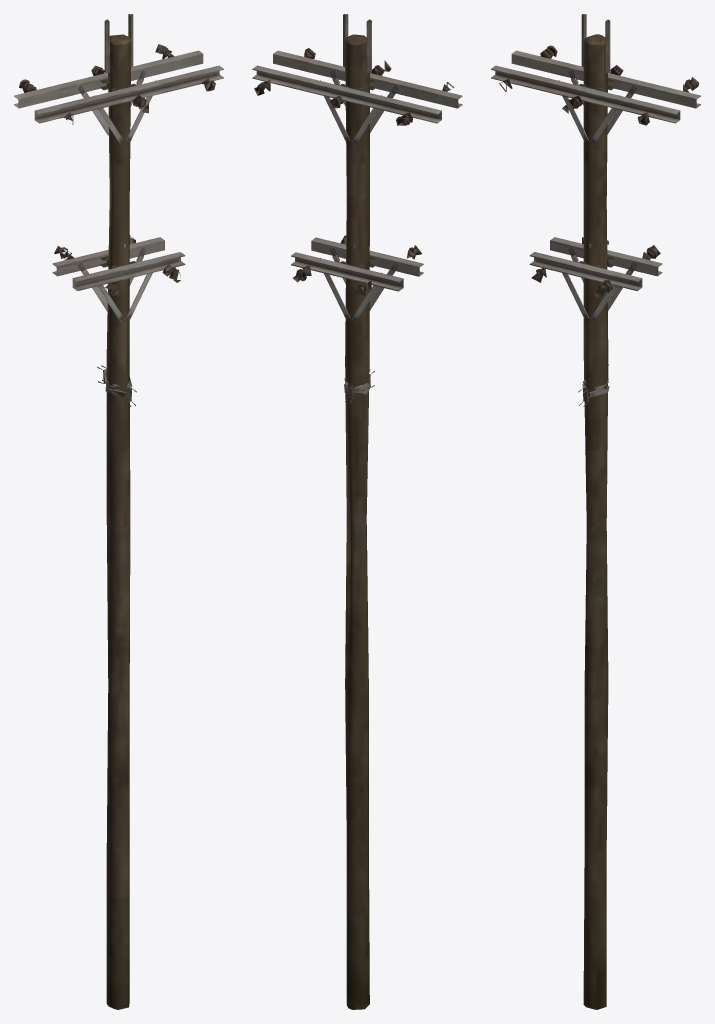
Rendered from poteau_electrique_b_lod2.glb.
3 renders of one model, left to right at view 1: azimuth 30°, elevation 25°; view 2: azimuth 150°, elevation 25°; view 3: azimuth 330°, elevation 25°, orthographic.
Parts seen in each view (by area): view 1: preset_02_pole, preset_02_cap; view 2: preset_02_pole, preset_02_cap; view 3: preset_02_pole, preset_02_cap.
Boxes of the visible parts, x1,y1,x2,y2 form: preset_02_pole: [106, 34, 131, 1009]; preset_02_cap: [14, 14, 223, 406]; preset_02_pole: [345, 34, 369, 1009]; preset_02_cap: [252, 14, 462, 402]; preset_02_pole: [583, 34, 608, 1009]; preset_02_cap: [491, 14, 700, 406].
Bounding box in the file's own units: 1.2 × 6.13 × 0.6464.
Materials: 2 (2 with a texture image).
